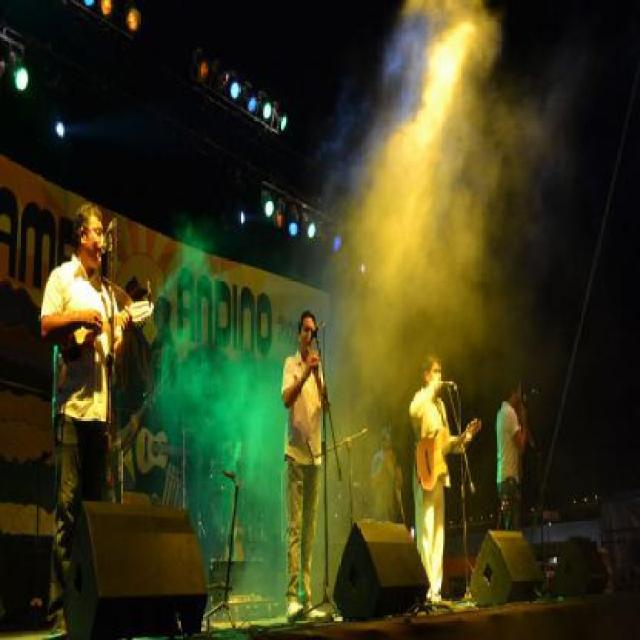Person: (38, 198, 136, 638), (406, 351, 469, 609), (281, 310, 330, 616), (495, 376, 530, 535), (369, 432, 403, 516)
